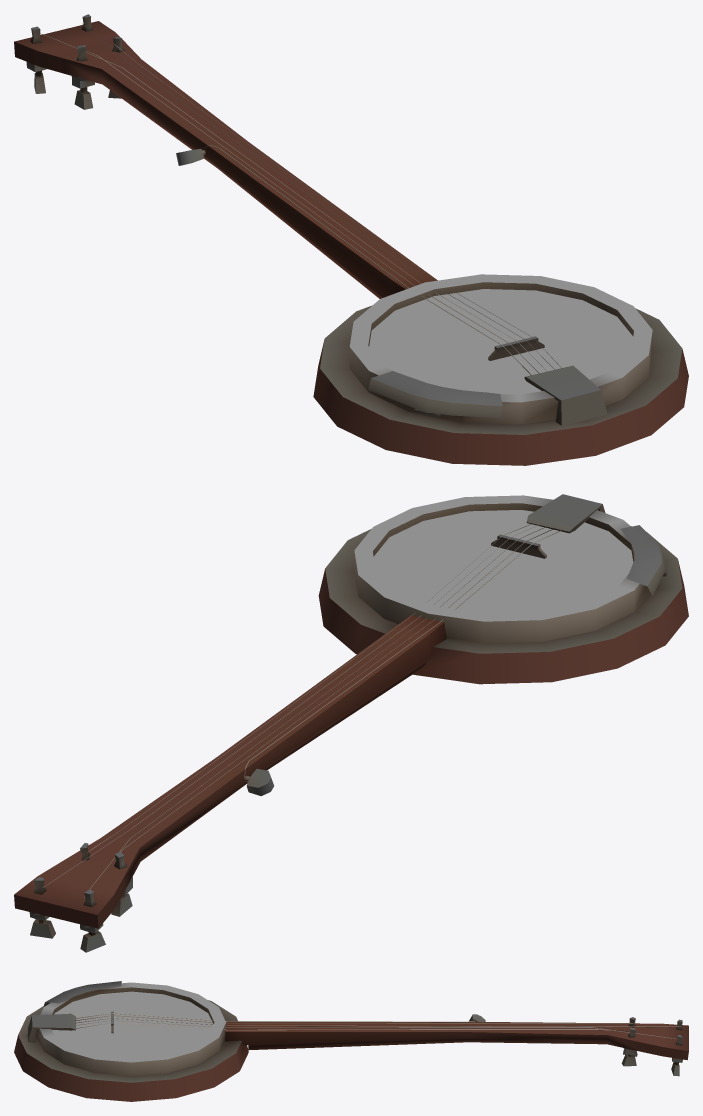
The model's file is human-music-banjo_v1.fbx.
3 views of the same model, one above another, from view 1: azimuth 30°, elevation 25°; view 2: azimuth 150°, elevation 25°; view 3: azimuth 270°, elevation 25° (orthographic). The views are drawn at different scales.
Parts seen in each view (by area): view 1: Banjo.001; view 2: Banjo.001; view 3: Banjo.001.
Part boxes in pixels (left/top/right/bottom): Banjo.001: left=14, top=14, right=688, bottom=465; Banjo.001: left=14, top=494, right=688, bottom=952; Banjo.001: left=14, top=981, right=688, bottom=1101.
Bounding box in the file's own units: 0.3305 × 0.074 × 0.95.
